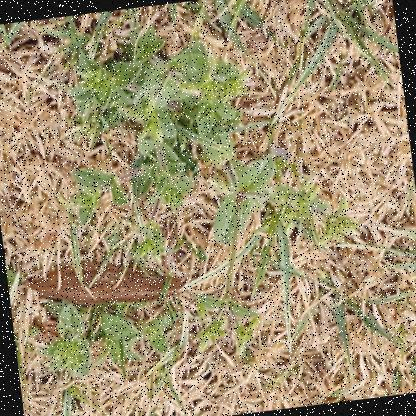Weeds: (53, 6, 381, 371), (39, 275, 181, 384)
